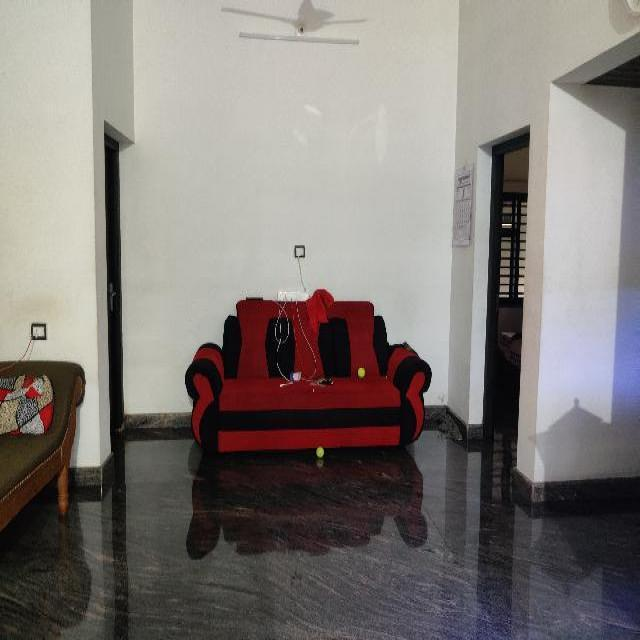tennis-ball: (357, 367, 365, 377), (316, 447, 324, 457)
